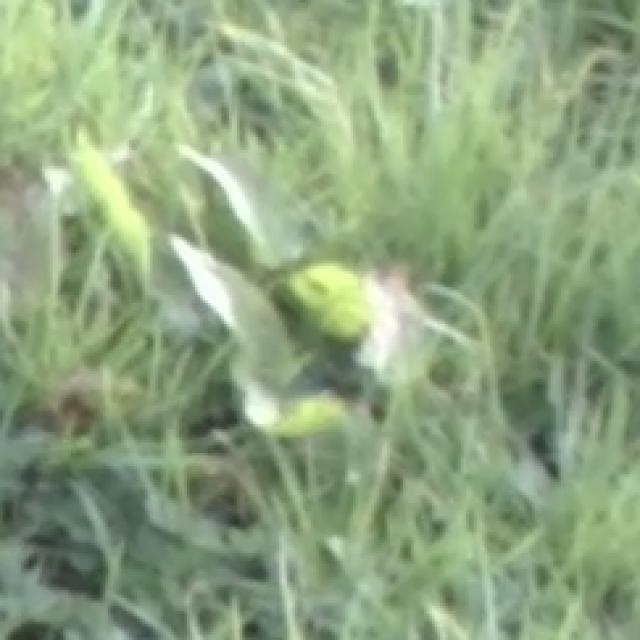organic waste: (95, 60, 424, 476)
